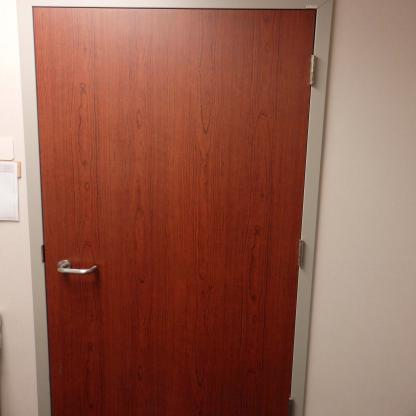door: (27, 10, 320, 415)
hinged: (307, 56, 318, 88), (296, 242, 306, 269), (288, 398, 297, 415)
lever: (56, 258, 100, 282)
